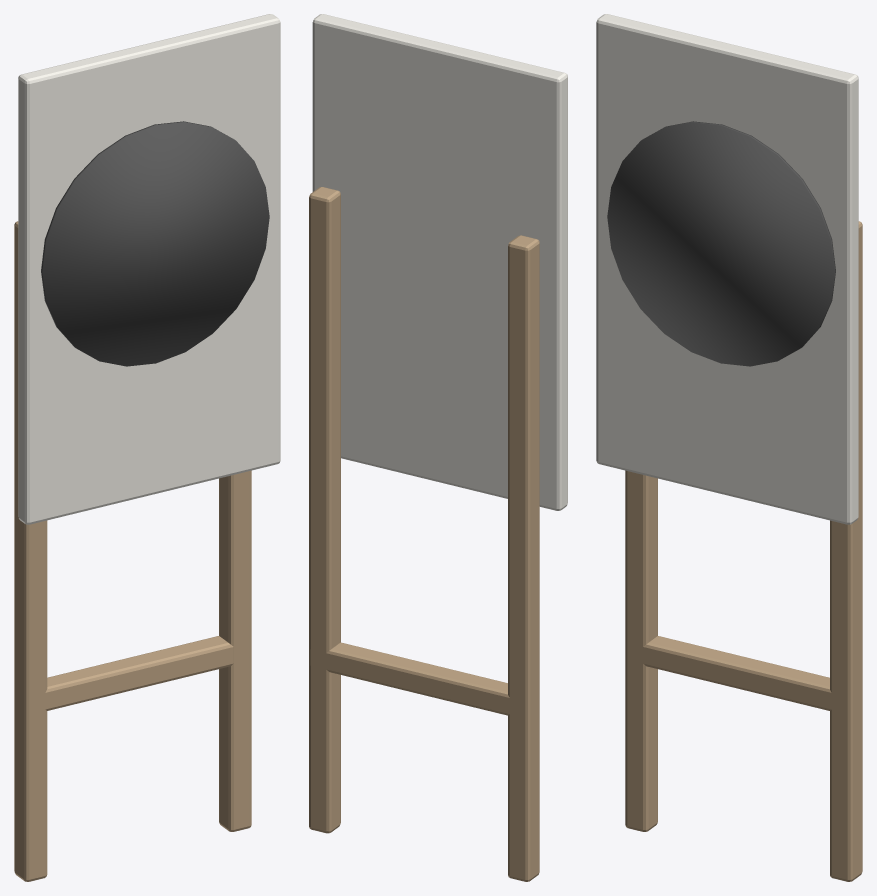
Rendered from chest_target.glb.
3 views of the same model, side by side, from view 1: azimuth 30°, elevation 25°; view 2: azimuth 150°, elevation 25°; view 3: azimuth 330°, elevation 25° (orthographic). The views are drawn at different scales.
Parts seen in each view (by area): view 1: target_board, ring0, target_post_l, target_post_r, target_brace; view 2: target_board, target_post_l, target_post_r, target_brace; view 3: target_board, ring0, target_post_r, target_post_l, target_brace.
Boxes of the visible parts, x1,y1,x2,y2 form: target_board: (18,14,280,524); ring0: (41,121,269,366); target_post_l: (14,221,47,881); target_post_r: (219,470,251,831); target_brace: (15,636,233,712); target_board: (312,14,567,510); target_post_l: (508,235,539,881); target_post_r: (309,187,340,833); target_brace: (310,642,539,717); target_board: (596,14,858,524); ring0: (607,121,835,366); target_post_r: (830,221,862,881); target_post_l: (625,470,657,831); target_brace: (643,636,831,710).
Bounding box in the file's own units: 0.45 × 1.38 × 0.0905.
